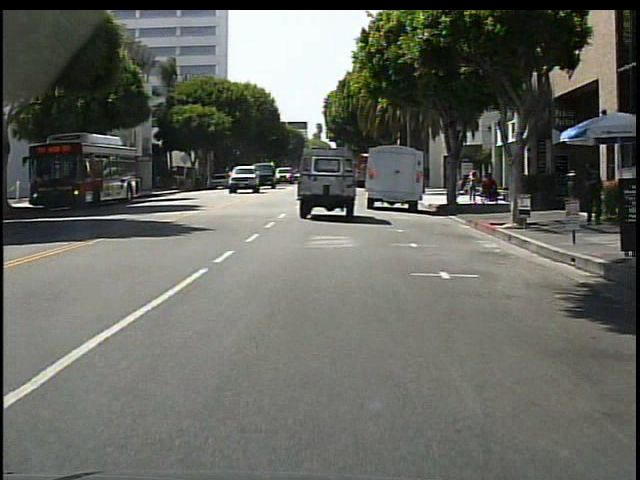person: (609, 149, 639, 255), (583, 167, 604, 227), (454, 163, 466, 204), (468, 168, 481, 204)
